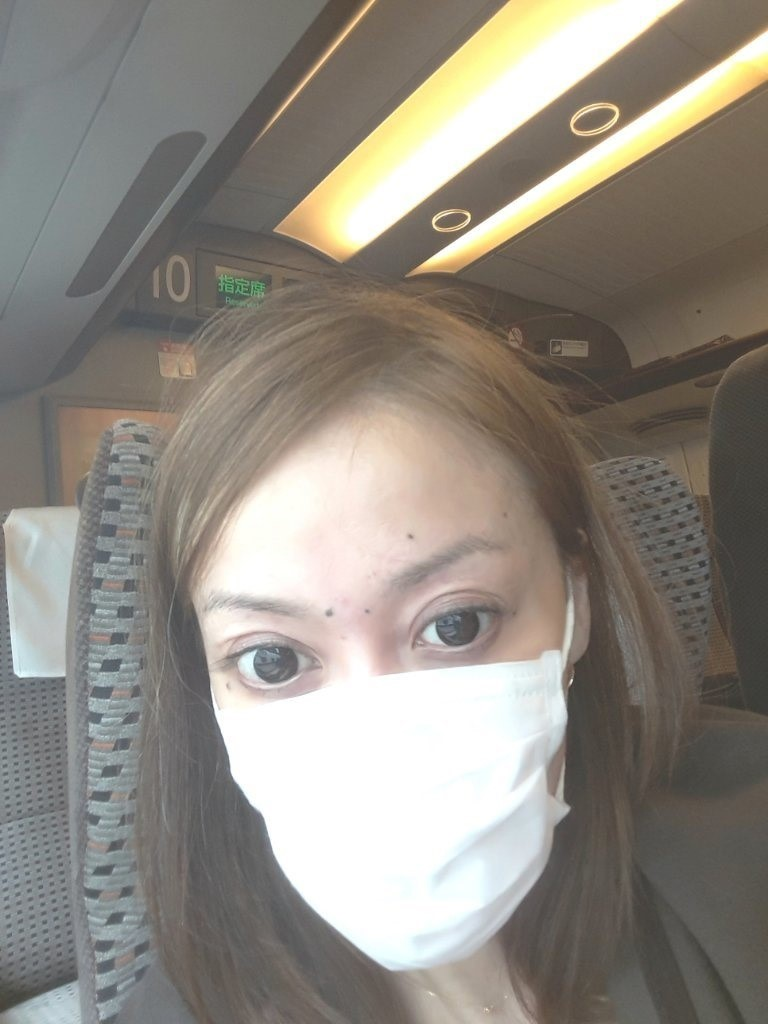face_with_mask: (162, 309, 602, 975)
